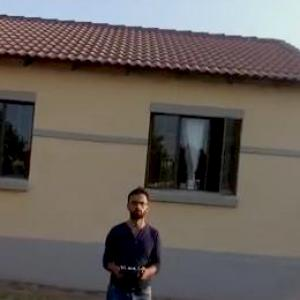follow: (96, 181, 165, 299)
